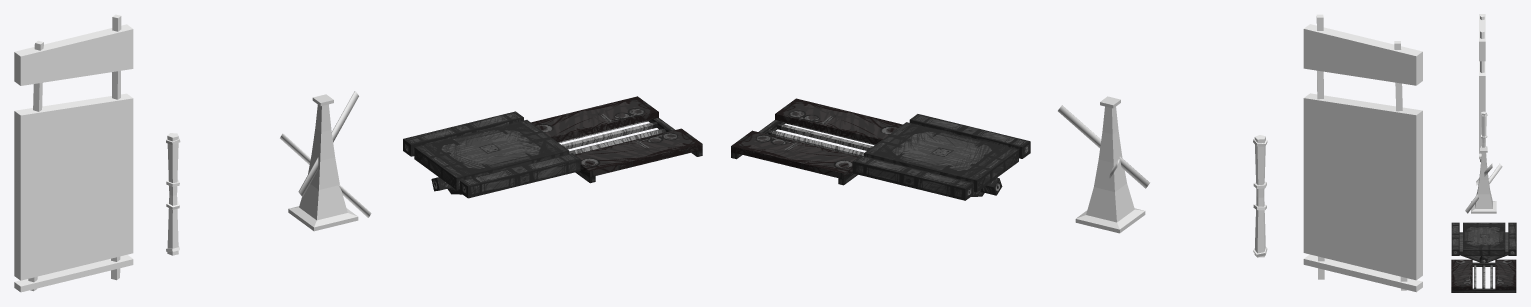
The model's file is placeholder.glb.
The picture shows the model from 3 angles, left to right: view 1: azimuth 30°, elevation 25°; view 2: azimuth 150°, elevation 25°; view 3: azimuth 270°, elevation 25°; orthographic projection. The views are drawn at different scales.
Parts seen in each view (by area): view 1: wall_Cube, floor, ceiling, placeholder, column_ref_Circle; view 2: wall_Cube, floor, ceiling, placeholder, column_ref_Circle; view 3: floor, ceiling, placeholder, wall_Cube, column_ref_Circle.
Part boxes in pixels (x1,y1,x2,y2): wall_Cube: (14, 14, 133, 292); floor: (403, 111, 580, 198); ceiling: (531, 96, 702, 183); placeholder: (280, 91, 371, 231); column_ref_Circle: (166, 133, 180, 255); wall_Cube: (1303, 14, 1422, 292); floor: (852, 114, 1030, 200); ceiling: (731, 98, 902, 185); placeholder: (1058, 96, 1149, 233); column_ref_Circle: (1253, 135, 1267, 257); floor: (1451, 222, 1516, 262); ceiling: (1451, 259, 1516, 292); placeholder: (1465, 147, 1502, 213); wall_Cube: (1479, 14, 1485, 161); column_ref_Circle: (1481, 111, 1487, 158).
Size of the model in its own units: 23.22 by 8.87 by 4.01.
Materials: 5 (2 with a texture image).
